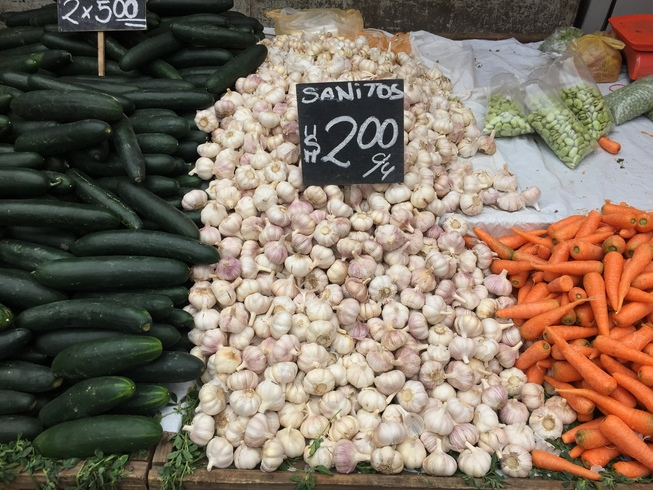precio: (297, 78, 413, 200), (62, 1, 150, 42)
